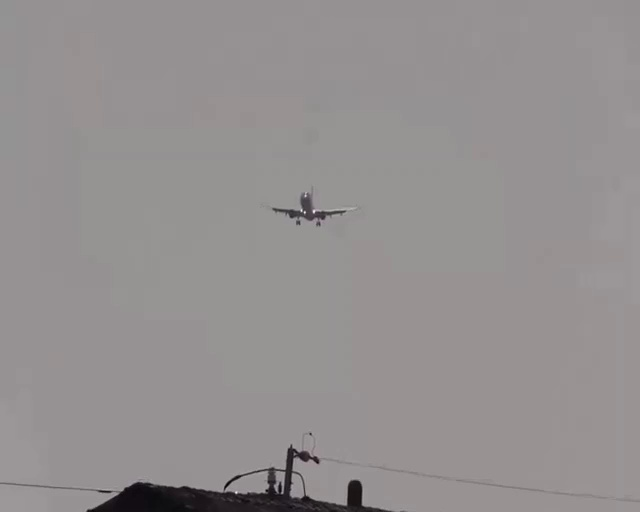AIRPLANE: (260, 184, 359, 226)
